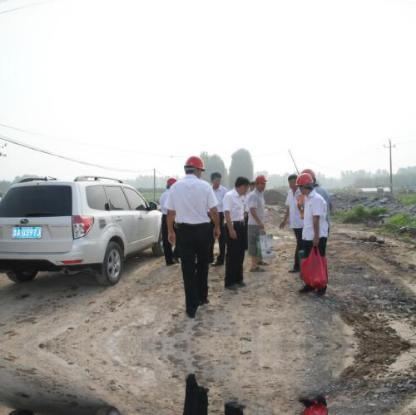helmet: (182, 150, 207, 174), (292, 173, 317, 194), (161, 169, 182, 192), (251, 171, 269, 190), (300, 168, 318, 185)
